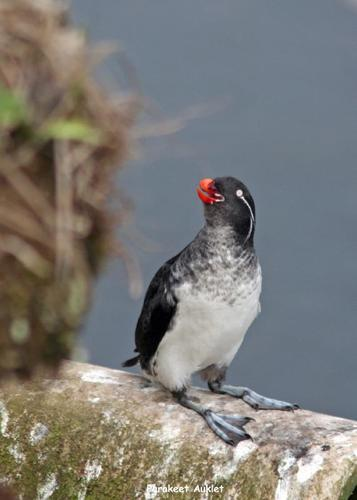007.Parakeet_Auklet: (120, 173, 303, 447)
